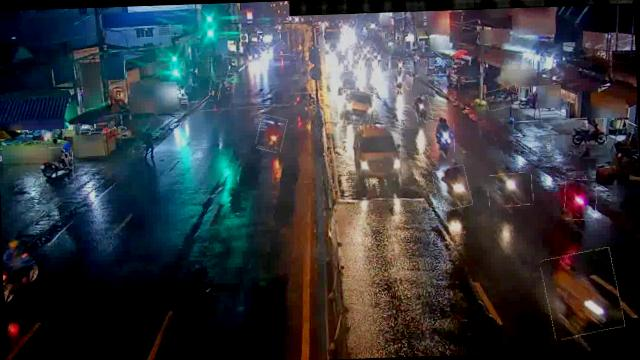Bike: (542, 250, 622, 338), (434, 166, 471, 210), (488, 172, 534, 207), (564, 178, 598, 220), (40, 147, 74, 187), (256, 115, 286, 152), (571, 118, 606, 144), (484, 86, 518, 109), (290, 92, 317, 112), (414, 96, 432, 123), (390, 69, 412, 91), (439, 124, 454, 153), (209, 80, 221, 100), (226, 73, 236, 93)
Car: (349, 124, 401, 180), (339, 89, 374, 124)
